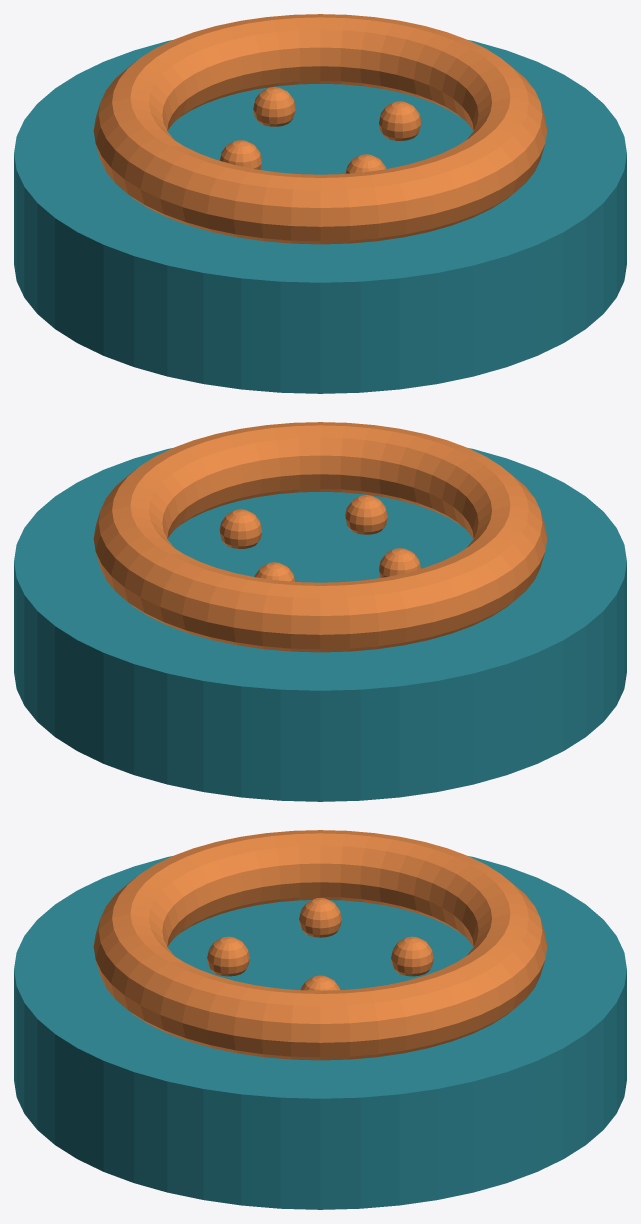
The model's file is signal-socket.glb.
3 renders of one model, top to bottom at view 1: azimuth 30°, elevation 25°; view 2: azimuth 150°, elevation 25°; view 3: azimuth 270°, elevation 25°, orthographic.
Parts seen in each view (by area): view 1: feasibility_signal_socket, feasibility_copper_ring, feasibility_pin_1, feasibility_pin_0, feasibility_pin_2, feasibility_pin_3; view 2: feasibility_signal_socket, feasibility_copper_ring, feasibility_pin_3, feasibility_pin_0, feasibility_pin_2, feasibility_pin_1; view 3: feasibility_signal_socket, feasibility_copper_ring, feasibility_pin_1, feasibility_pin_3, feasibility_pin_2.
Boxes of the visible parts, x1,y1,x2,y2 form: feasibility_signal_socket: (14, 40, 626, 393); feasibility_copper_ring: (93, 14, 547, 244); feasibility_pin_1: (253, 87, 295, 126); feasibility_pin_0: (379, 101, 421, 140); feasibility_pin_2: (220, 140, 261, 169); feasibility_pin_3: (345, 154, 386, 173); feasibility_signal_socket: (14, 448, 626, 801); feasibility_copper_ring: (93, 422, 547, 652); feasibility_pin_3: (345, 495, 387, 534); feasibility_pin_0: (219, 509, 261, 548); feasibility_pin_2: (379, 548, 420, 577); feasibility_pin_1: (254, 562, 295, 581); feasibility_signal_socket: (14, 856, 626, 1209); feasibility_copper_ring: (93, 830, 547, 1060); feasibility_pin_1: (391, 936, 433, 976); feasibility_pin_3: (207, 936, 249, 976); feasibility_pin_2: (299, 898, 341, 937).
Bounding box in the file's own units: 2 × 0.6 × 2.
